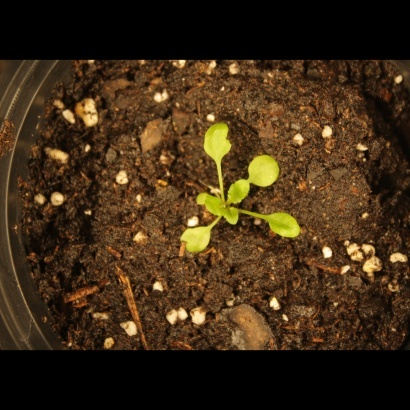leaf: (196, 118, 239, 167), (175, 218, 215, 261), (263, 204, 304, 244), (246, 153, 285, 186), (194, 189, 227, 217), (228, 177, 253, 206), (221, 206, 246, 229)
